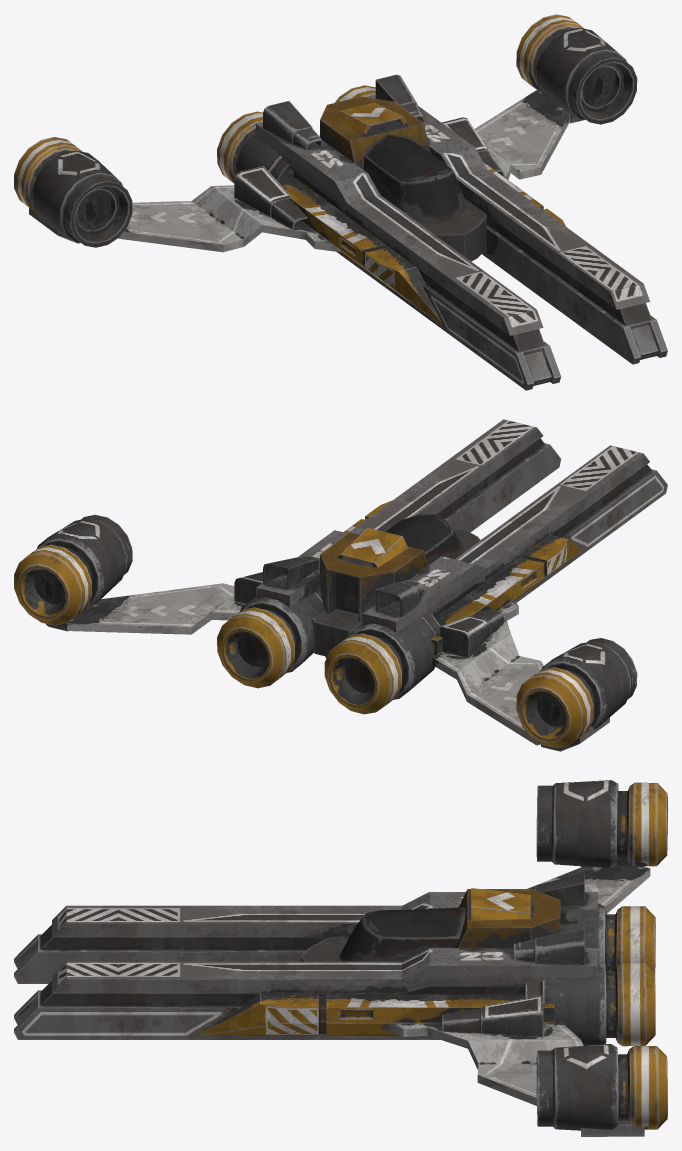
The model's file is Executioner.glb.
3 renders of one model, top to bottom at view 1: azimuth 30°, elevation 25°; view 2: azimuth 150°, elevation 25°; view 3: azimuth 270°, elevation 25°, orthographic. The views are drawn at different scales.
Visible parts, largest first — view 1: Executioner; view 2: Executioner; view 3: Executioner.
Boxes of the visible parts, <box> form: Executioner: <box>14,14,667,390</box>; Executioner: <box>14,419,667,751</box>; Executioner: <box>14,780,667,1136</box>.
Bounding box in the file's own units: 10.02 × 1.85 × 9.2.
Materials: 1 (1 with a texture image).
